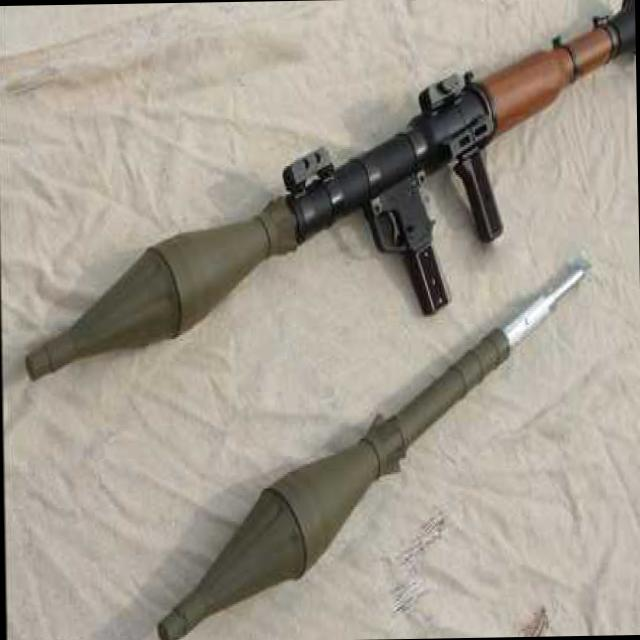Gun: (17, 0, 640, 416)
